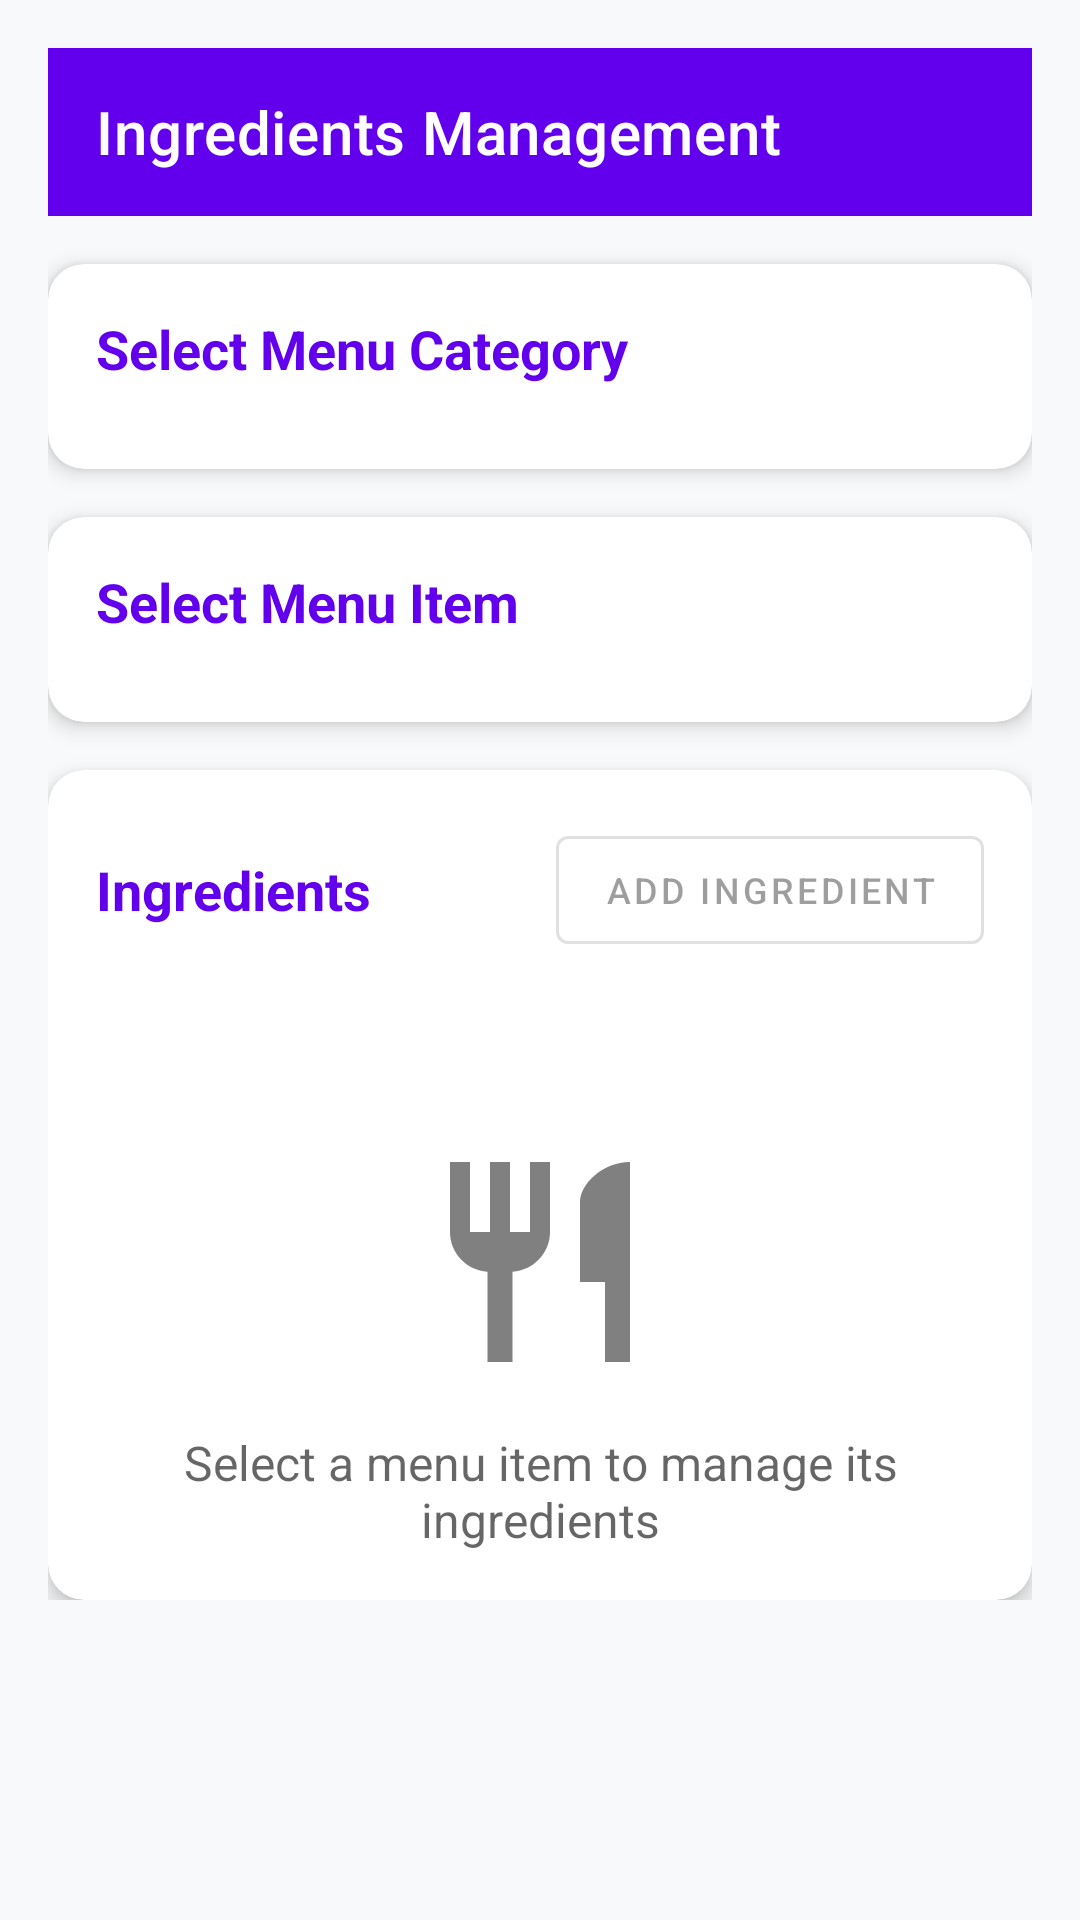

Screen size 1080 × 1920. Icon name, then its box in pixels as BBox(x1, y1, x2, y2):
restaurant menu: BBox(450, 1162, 630, 1362)
